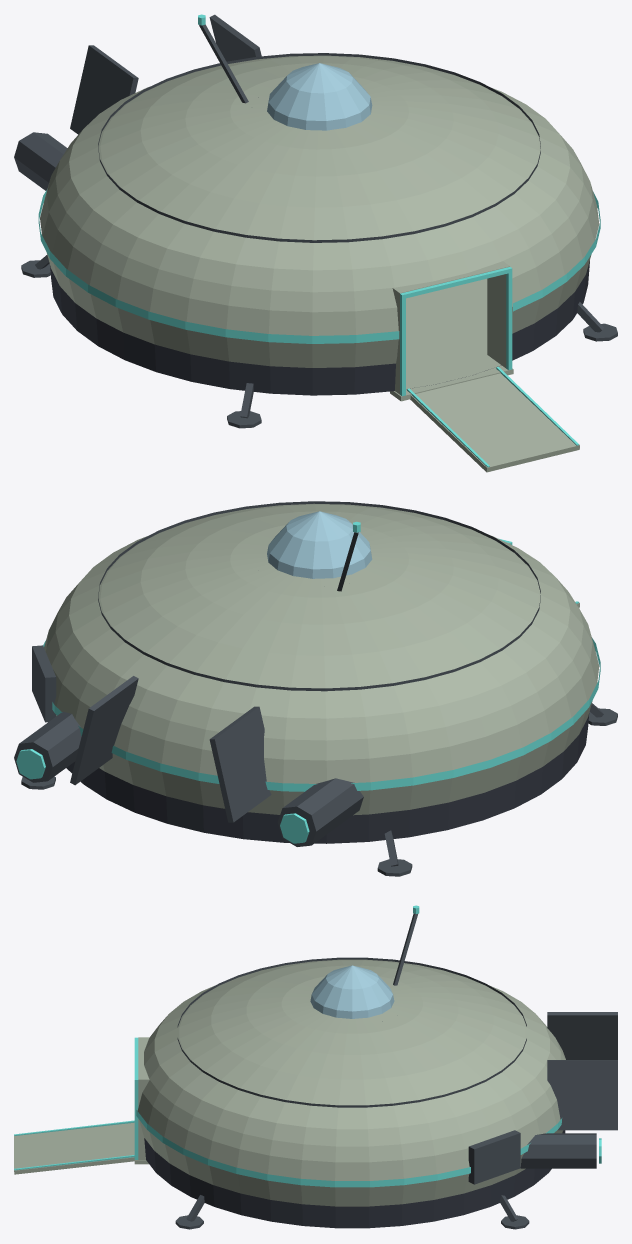
File: GV_CrashedShip_01.glb
The picture shows the model from 3 angles, top to bottom: view 1: azimuth 30°, elevation 25°; view 2: azimuth 150°, elevation 25°; view 3: azimuth 270°, elevation 25°; orthographic projection. The views are drawn at different scales.
Parts seen in each view (by area): view 1: GV_CrashedShip_01, ShipRamp; view 2: GV_CrashedShip_01; view 3: GV_CrashedShip_01, ShipRamp.
Boxes of the visible parts, x1,y1,x2,y2 form: GV_CrashedShip_01: [14, 14, 617, 428]; ShipRamp: [407, 366, 579, 472]; GV_CrashedShip_01: [14, 501, 617, 876]; GV_CrashedShip_01: [134, 905, 617, 1229]; ShipRamp: [14, 1120, 134, 1174].
Size of the model in its own units: 12.52 by 6.85 by 17.06.
1 material, 1 textured.
